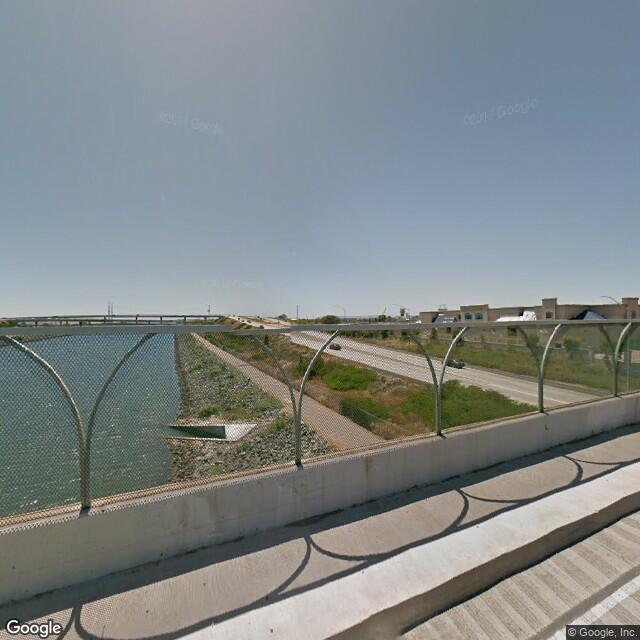litter: (238, 450, 246, 456)
